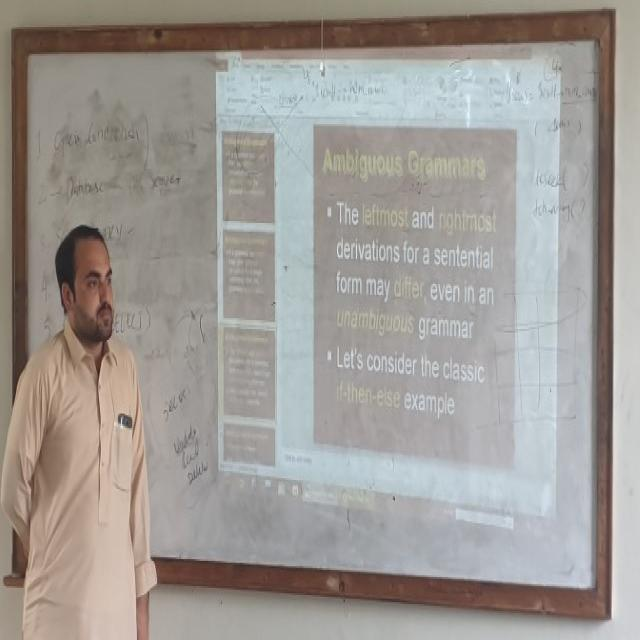Instructor: (12, 196, 143, 640)
Slide: (214, 43, 561, 550)
White-board: (18, 26, 606, 612)
